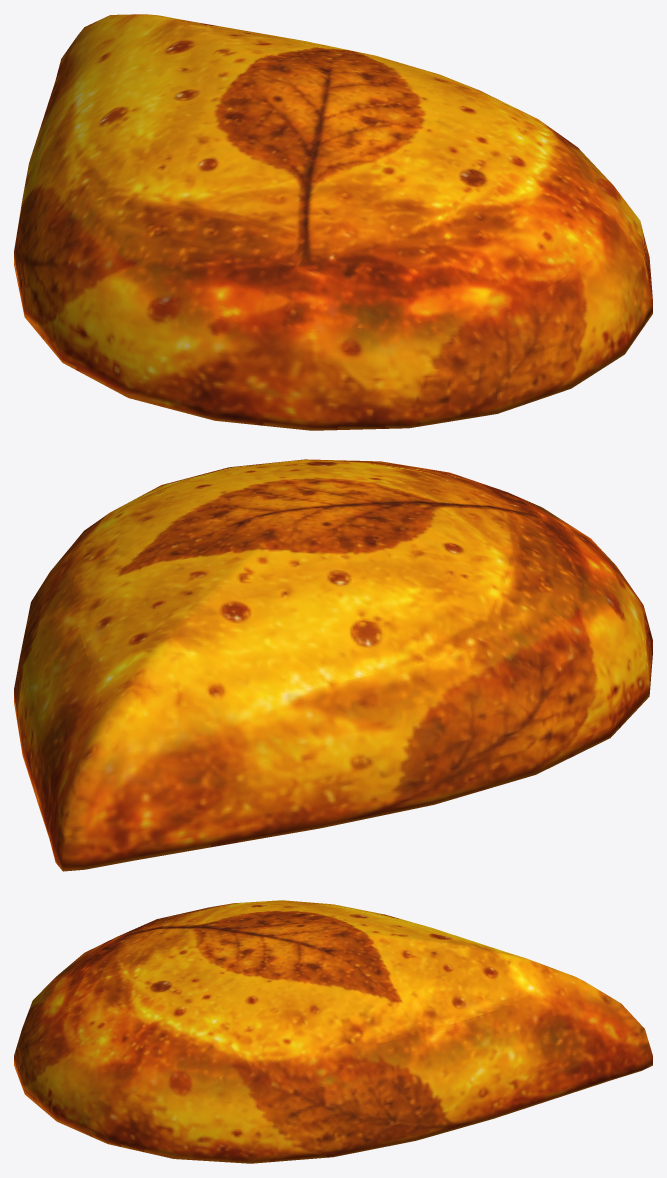
File: item_maw_craft_gem04.glb
3 views of the same model, one above another, from view 1: azimuth 30°, elevation 25°; view 2: azimuth 150°, elevation 25°; view 3: azimuth 270°, elevation 25° (orthographic). The views are drawn at different scales.
Parts seen in each view (by area): view 1: maw_gem04; view 2: maw_gem04; view 3: maw_gem04.
Part boxes in pixels (x1,y1,x2,y2): maw_gem04: [14, 14, 652, 430]; maw_gem04: [14, 459, 652, 871]; maw_gem04: [14, 900, 652, 1163].
Size of the model in its own units: 1.75 by 0.55 by 2.4.
1 material, 1 textured.
